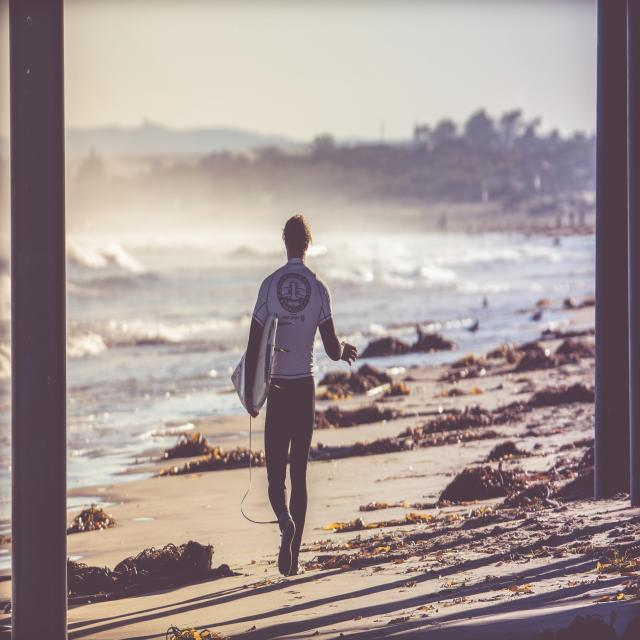adult: (243, 214, 357, 578)
